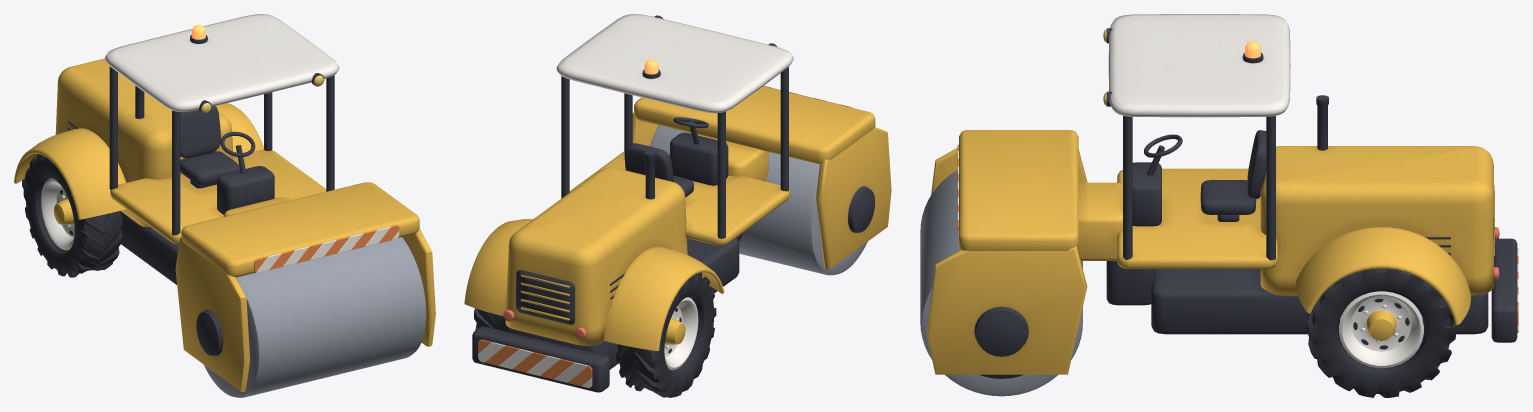
The model's file is road-roller.glb.
The picture shows the model from 3 angles, left to right: view 1: azimuth 30°, elevation 25°; view 2: azimuth 150°, elevation 25°; view 3: azimuth 270°, elevation 25°; orthographic projection. The views are drawn at different scales.
Parts seen in each view (by area): view 1: road-roller_body, road-roller_drum, road-roller_wheel_rr; view 2: road-roller_body, road-roller_drum, road-roller_wheel_rr, road-roller_wheel_rl; view 3: road-roller_body, road-roller_wheel_rl, road-roller_drum.
Boxes of the visible parts, x1,y1,x2,y2 form: road-roller_body: [14, 14, 435, 391]; road-roller_drum: [204, 237, 426, 397]; road-roller_wheel_rr: [23, 154, 122, 277]; road-roller_body: [464, 14, 891, 392]; road-roller_drum: [650, 125, 867, 275]; road-roller_wheel_rr: [616, 272, 716, 397]; road-roller_wheel_rl: [474, 308, 505, 331]; road-roller_body: [926, 14, 1518, 374]; road-roller_wheel_rl: [1306, 268, 1456, 397]; road-roller_drum: [920, 170, 1082, 396].
Size of the model in its own units: 2.58 by 3.17 by 5.59.
Materials: 10 (2 with a texture image).
